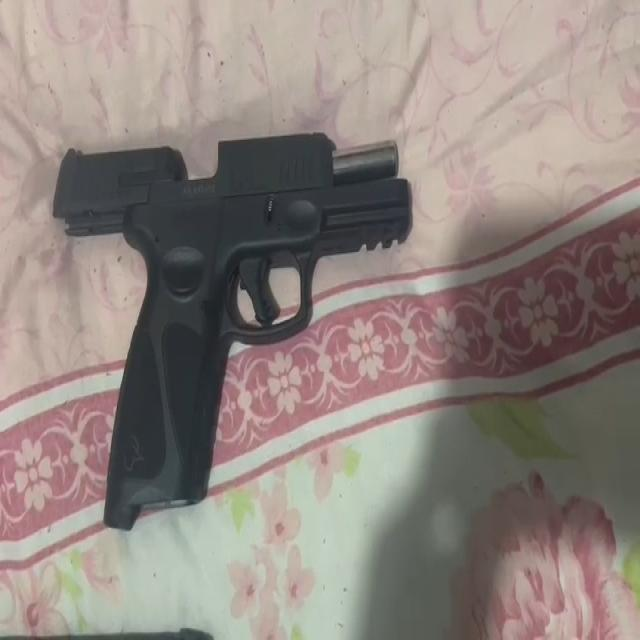gun: (48, 128, 414, 532)
